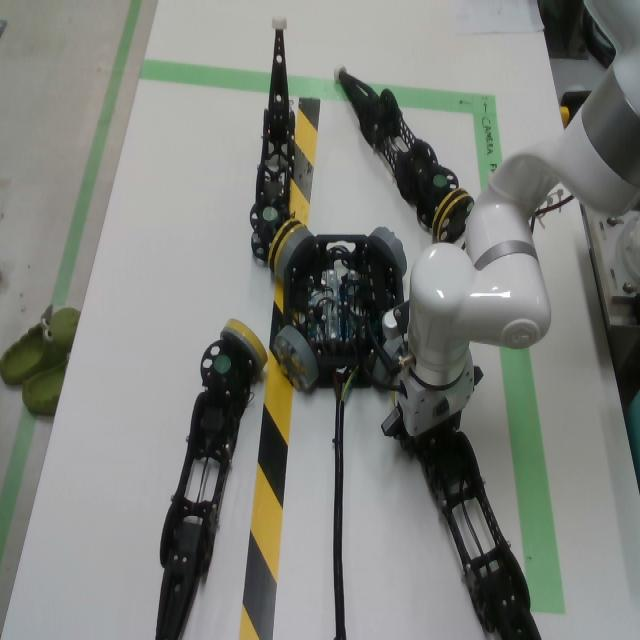body: (284, 235, 404, 389)
body_connector: (273, 325, 319, 391), (276, 227, 314, 280), (368, 227, 408, 277), (372, 356, 393, 396), (384, 336, 403, 360)
gripper: (381, 352, 484, 460)
leg: (155, 317, 268, 640), (414, 417, 542, 640), (332, 63, 475, 244), (249, 19, 305, 275)
leg_connector: (221, 319, 268, 372), (432, 189, 474, 244), (268, 219, 304, 273)
leg_marker: (214, 355, 231, 372), (263, 207, 278, 221), (433, 175, 447, 187)
